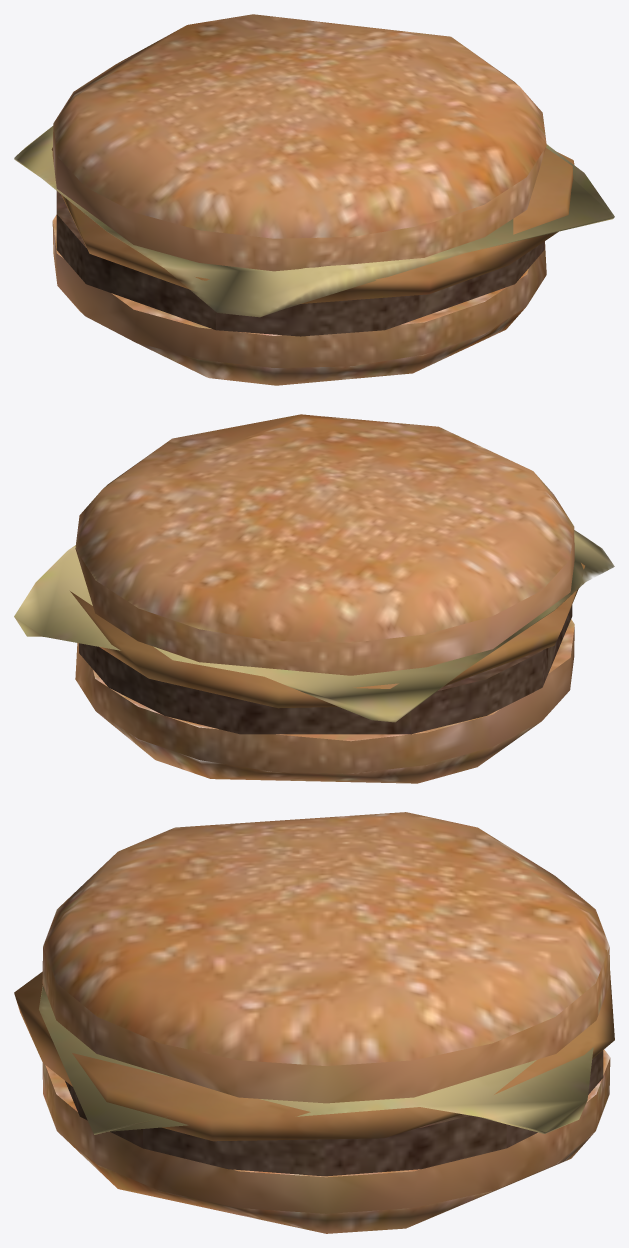
Rendered from AHamburger.glb.
The picture shows the model from 3 angles, top to bottom: view 1: azimuth 30°, elevation 25°; view 2: azimuth 150°, elevation 25°; view 3: azimuth 270°, elevation 25°; orthographic projection. The views are drawn at different scales.
Visible parts, largest first — view 1: AHamburger; view 2: AHamburger; view 3: AHamburger.
Part boxes in pixels (x1=…): AHamburger: x1=14, y1=14, x2=614, y2=385; AHamburger: x1=14, y1=414, x2=614, y2=783; AHamburger: x1=14, y1=812, x2=614, y2=1233.
Bounding box in the file's own units: 0.00956 × 0.00481 × 0.00964.
Materials: 1 (1 with a texture image).
